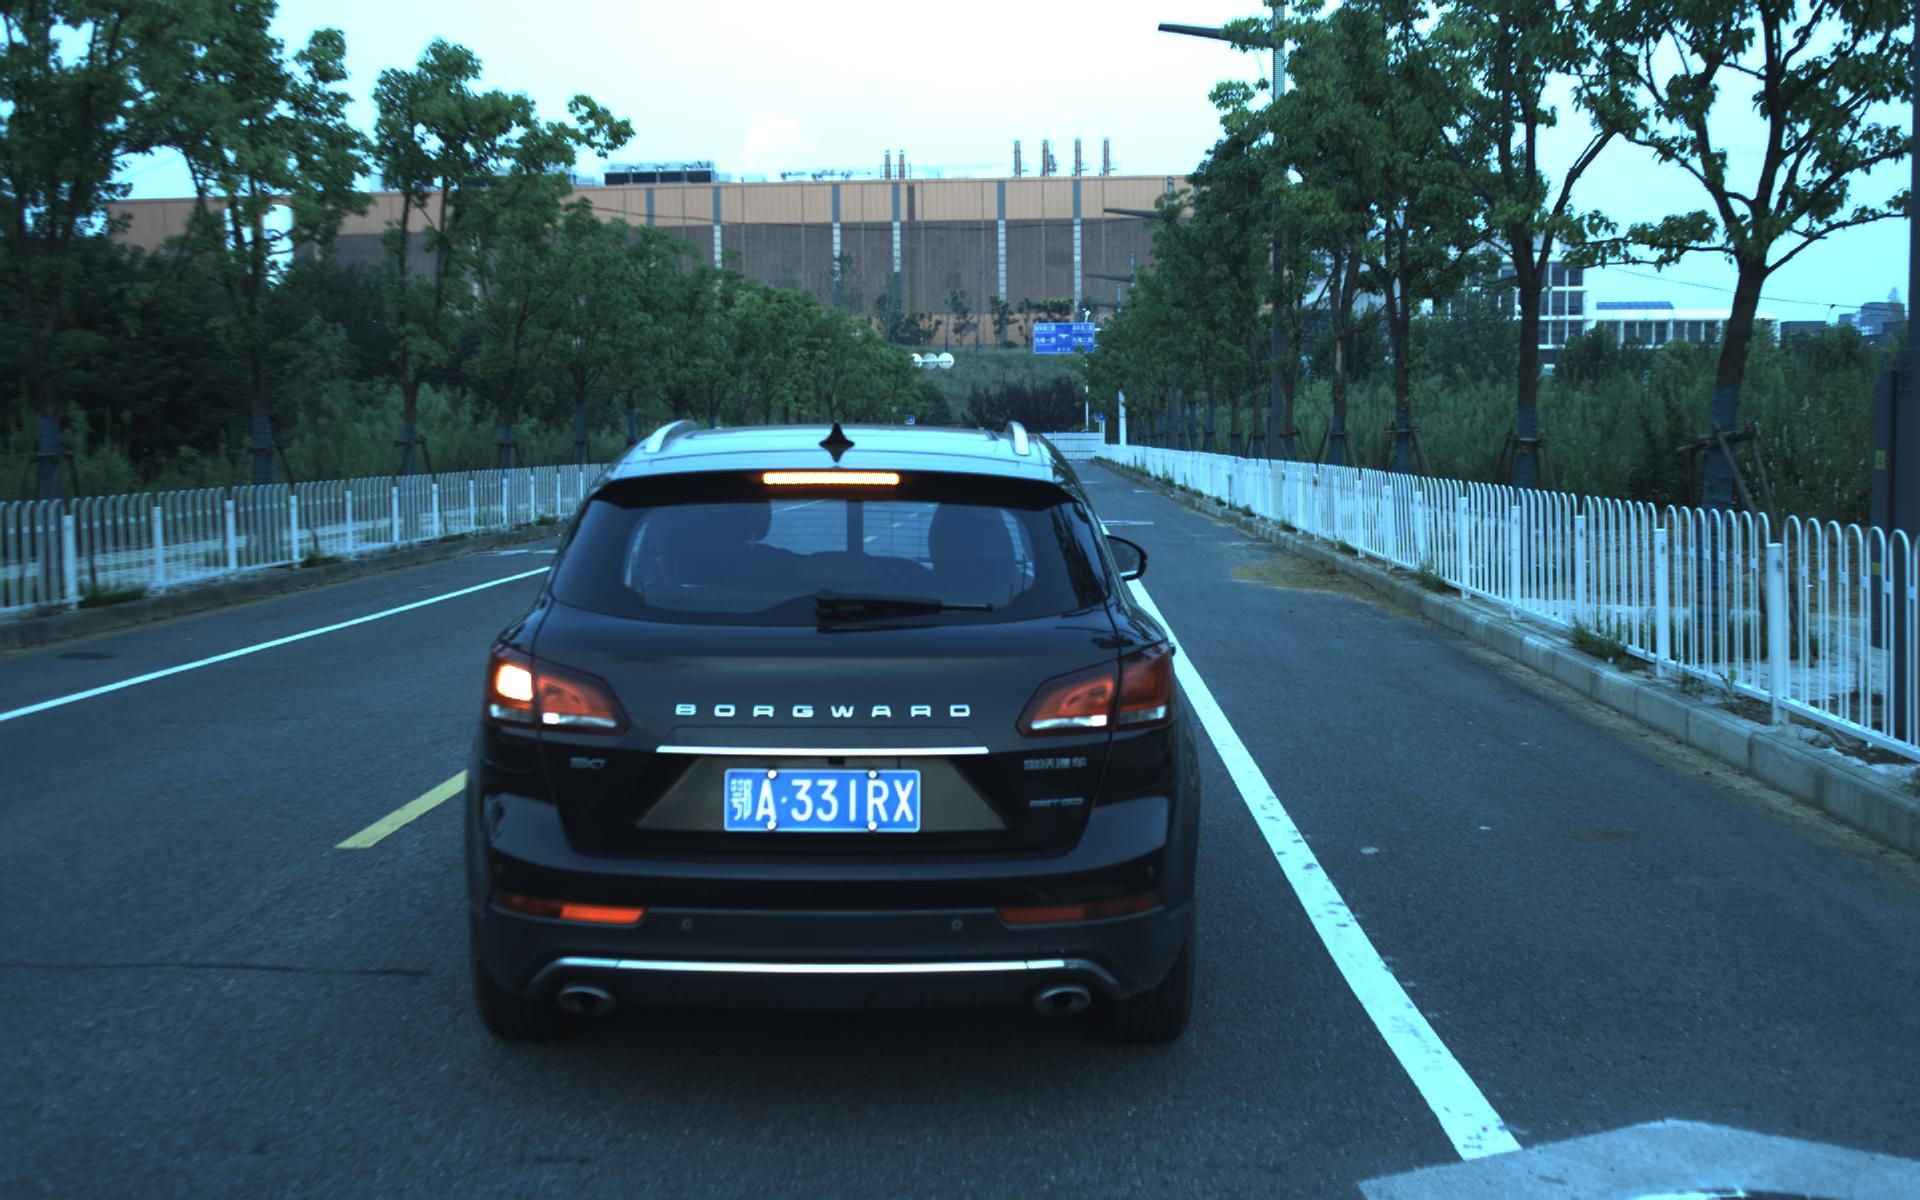Car: (455, 393, 1221, 1060)
